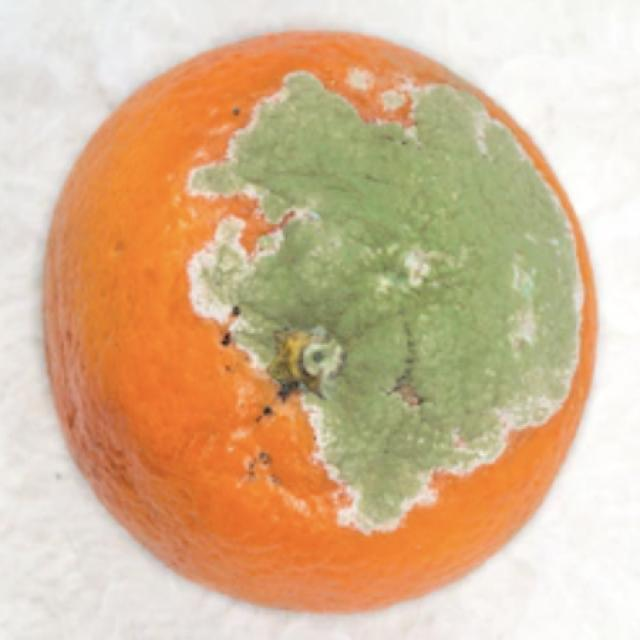sedikit-busuk: (43, 32, 596, 609), (192, 74, 579, 527)
